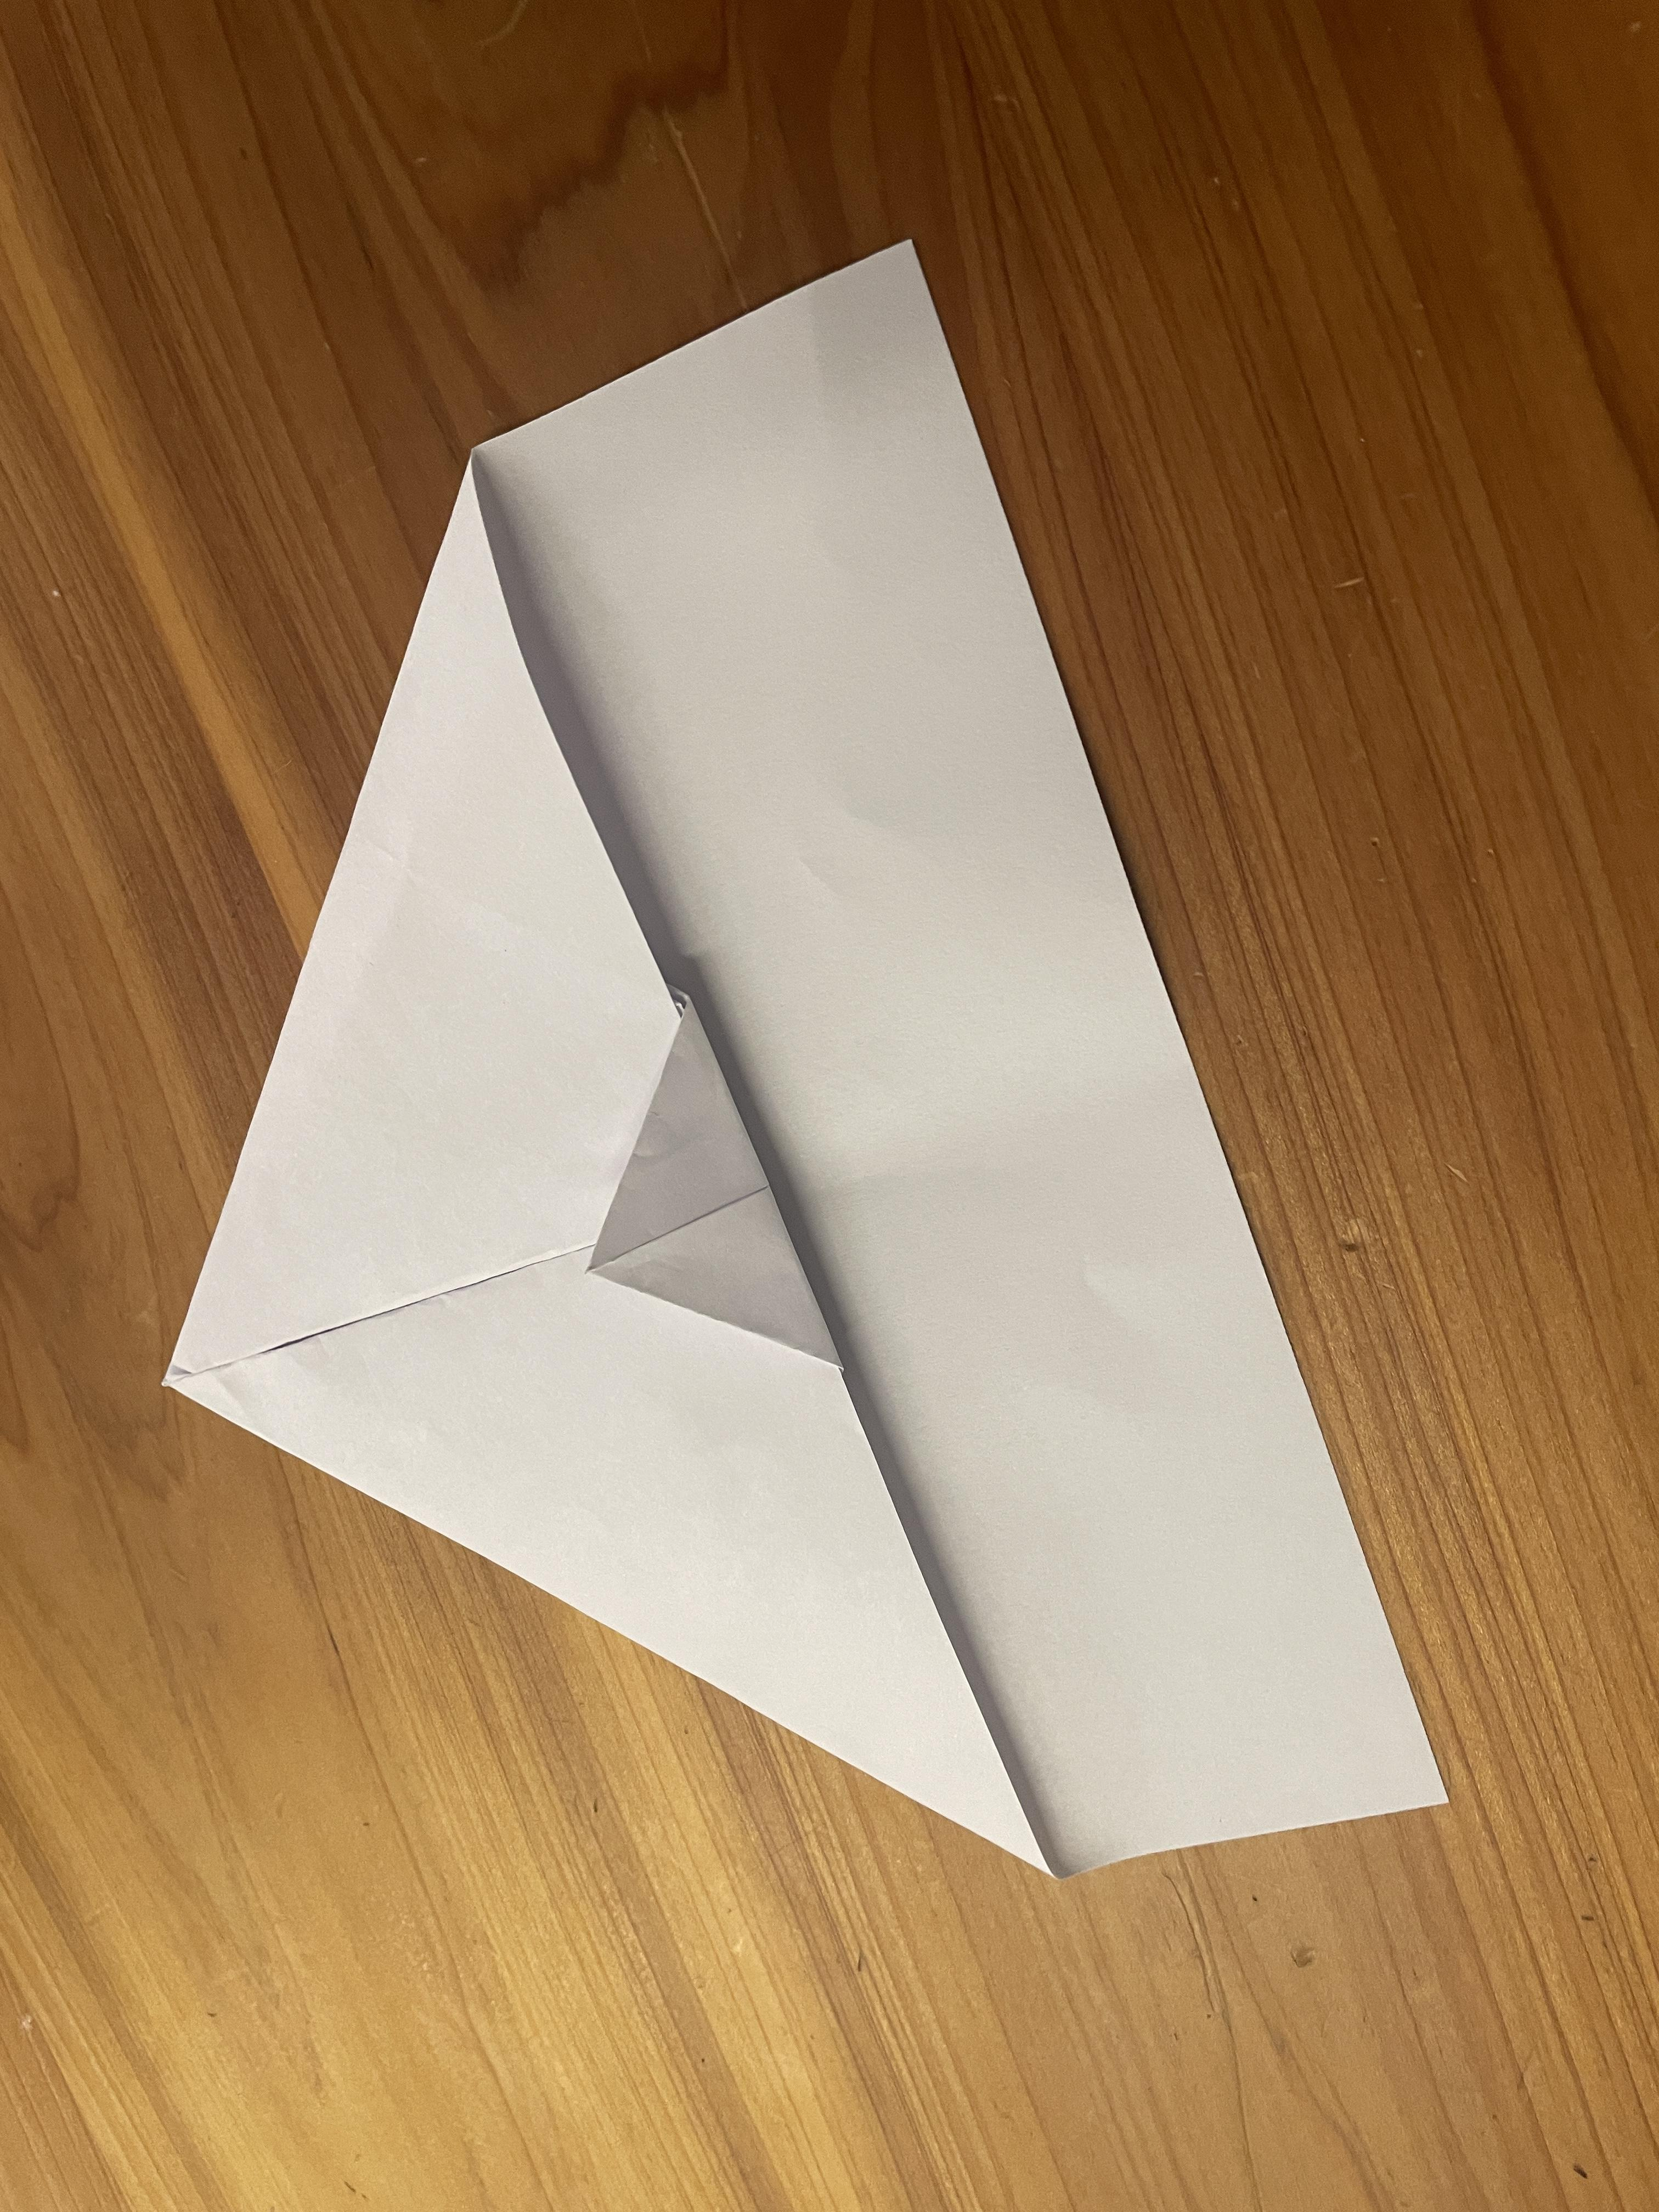shape_2: (125, 176, 1553, 2095)
